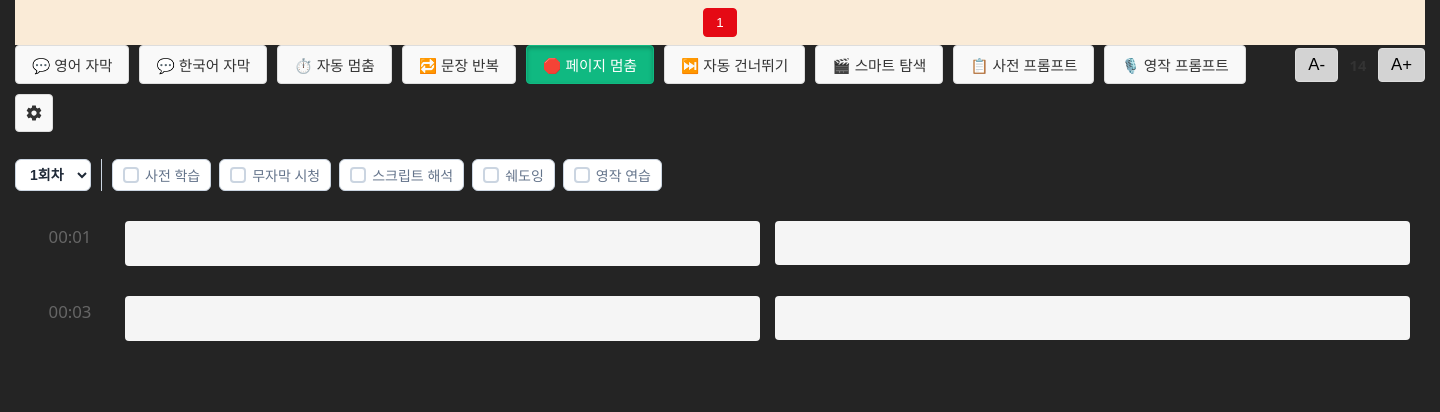
Test: 4.2-6 storage error notices › shows a notice when the memo save fails
This screenshot has width=1440, height=412.
Step 1. Click the button "💬 영어 자막" → (72, 64), box [15,45,129,84]
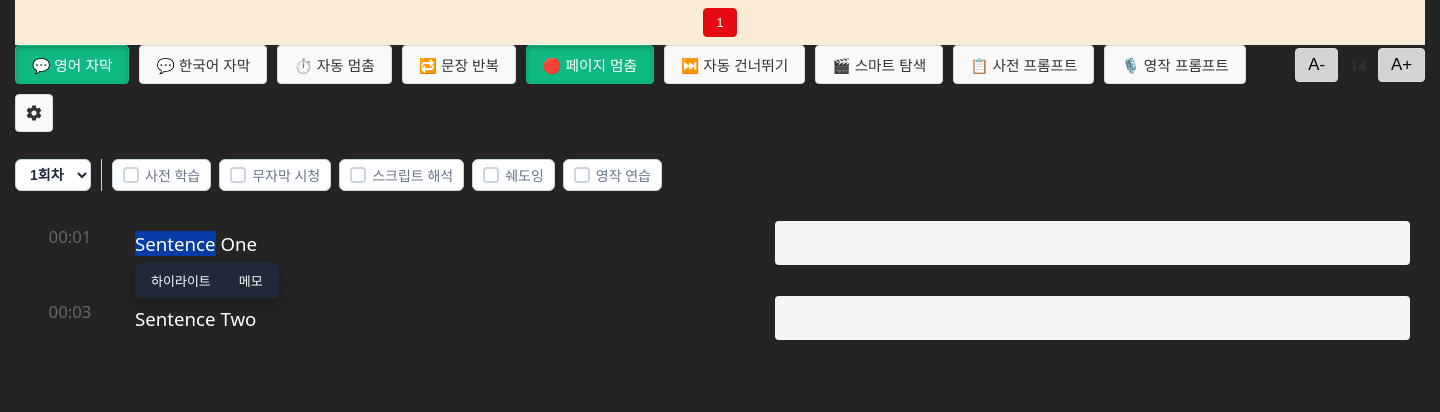
Step 2. Click the button "하이라이트" → (181, 280), box [139,266,223,295]
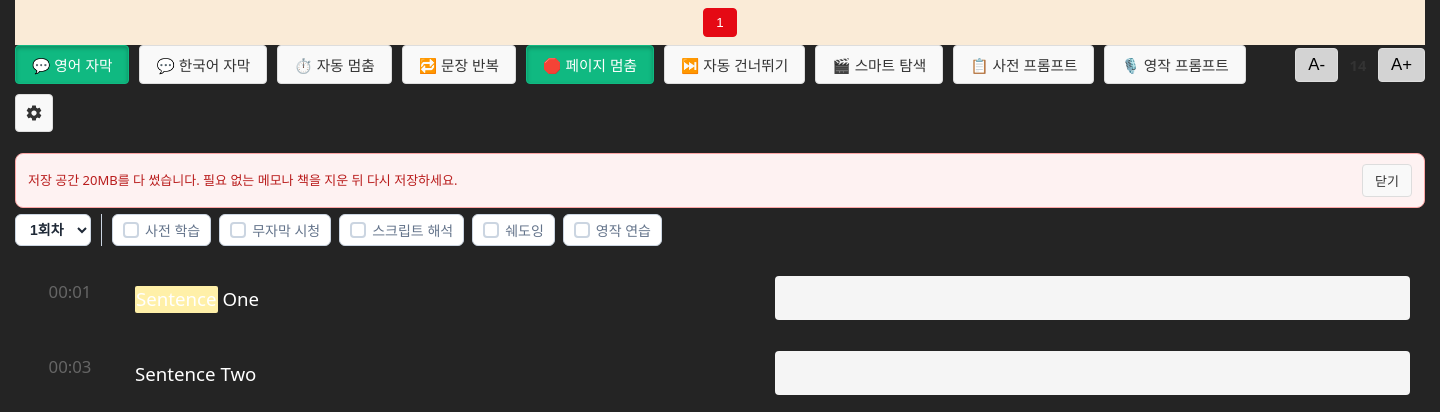
Expected: the text "저장 공간 20MB를 다 썼습니다. 필요 없는 메모나 책을 지운 뒤 다시 저장하세요." is shown, [28,171,458,189]
